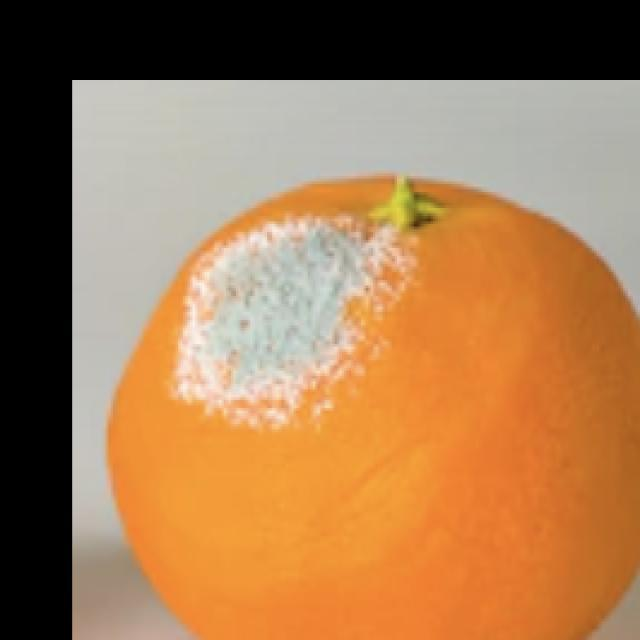sedikit-busuk: (108, 176, 639, 639)
